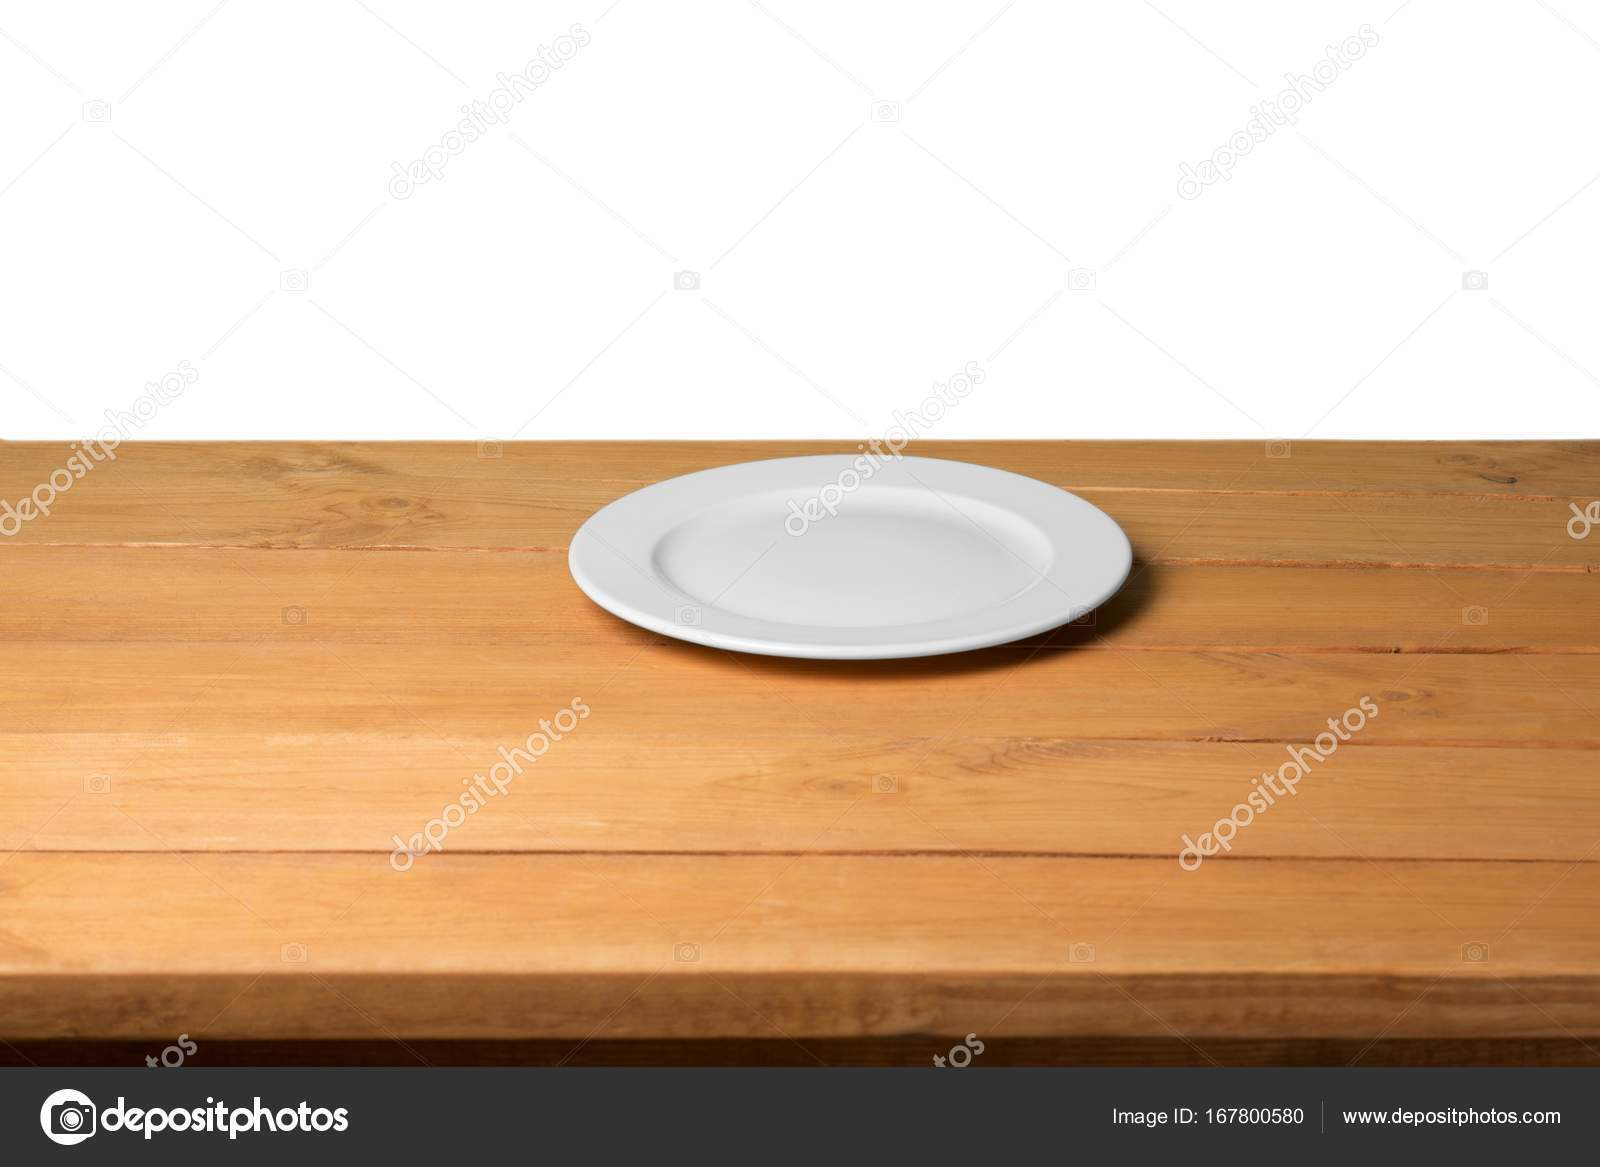plate: (554, 447, 1140, 670)
